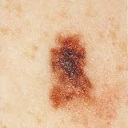Melanoma: (51, 33, 95, 102)
